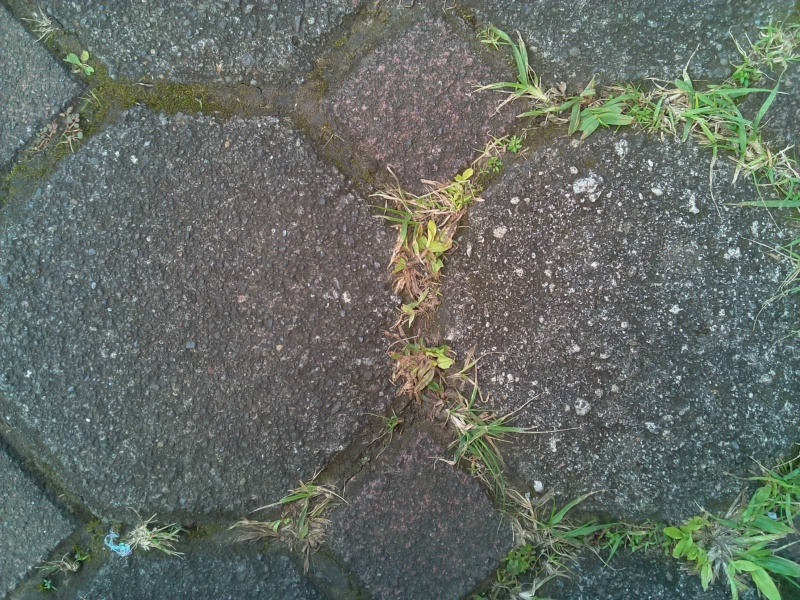Weed: (664, 494, 796, 600), (381, 176, 474, 309), (235, 484, 343, 561), (511, 496, 600, 580), (437, 401, 535, 477), (729, 109, 800, 209), (652, 65, 731, 149), (484, 28, 560, 107), (386, 336, 462, 400), (548, 90, 636, 144), (739, 16, 800, 72), (603, 516, 669, 566), (125, 515, 182, 563), (472, 131, 522, 176), (39, 104, 86, 148), (501, 537, 538, 585), (22, 3, 62, 45), (59, 44, 100, 82), (45, 544, 84, 582), (373, 409, 408, 448)
